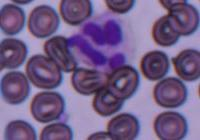N: (67, 10, 135, 74)
